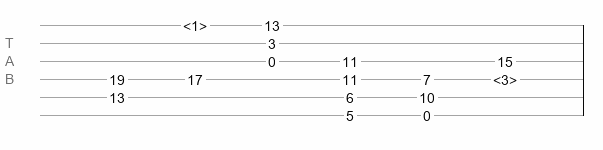0: (268, 54, 276, 64), (423, 108, 431, 118)
10: (419, 90, 435, 100)
11: (342, 72, 358, 82), (342, 54, 358, 64)
13: (109, 90, 125, 100), (264, 18, 280, 28)
15: (497, 54, 513, 64)
17: (187, 72, 203, 82)
19: (109, 72, 125, 82)
3: (268, 36, 276, 46)
5: (346, 108, 354, 118)
6: (346, 90, 354, 100)
7: (423, 72, 431, 82)
harmonic: (183, 18, 207, 28), (493, 72, 517, 82)
